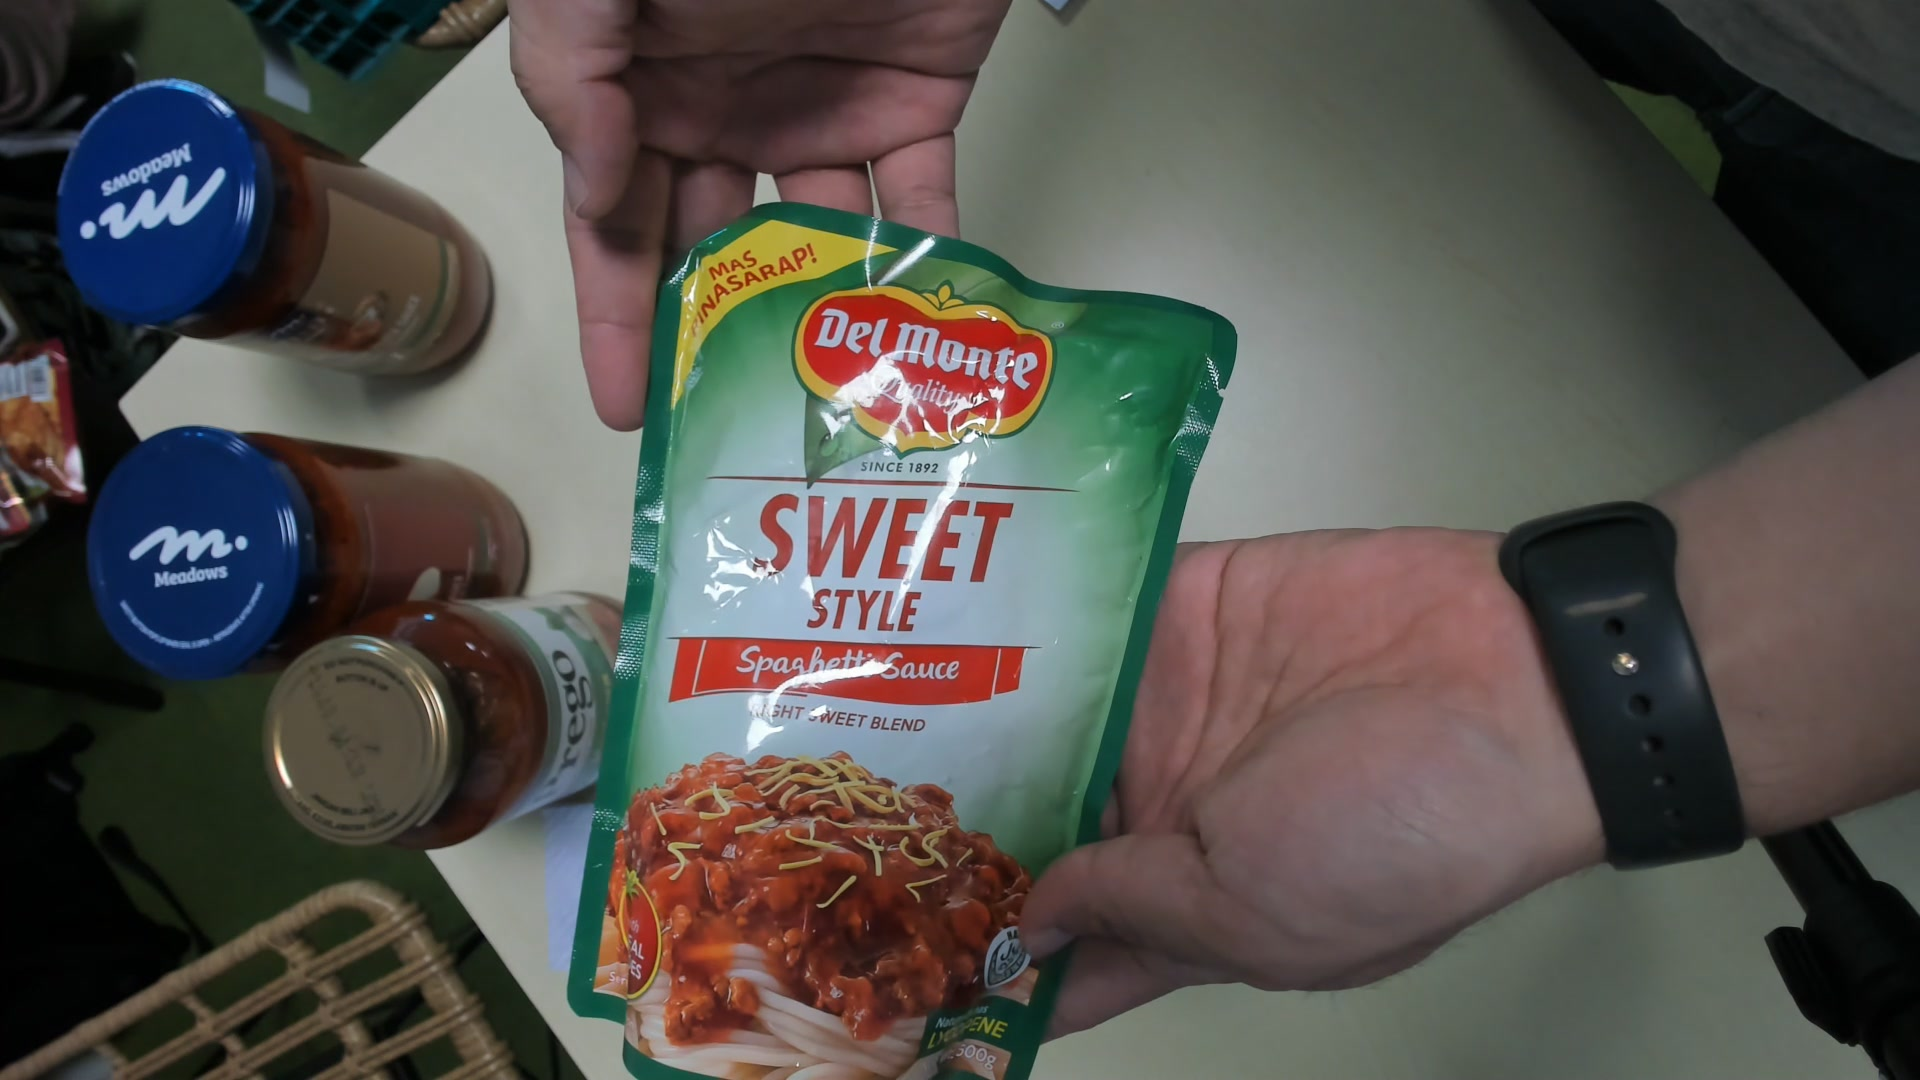PastaSauce_500-599g_Halal_NonHealthy: (584, 208, 1222, 1080)
